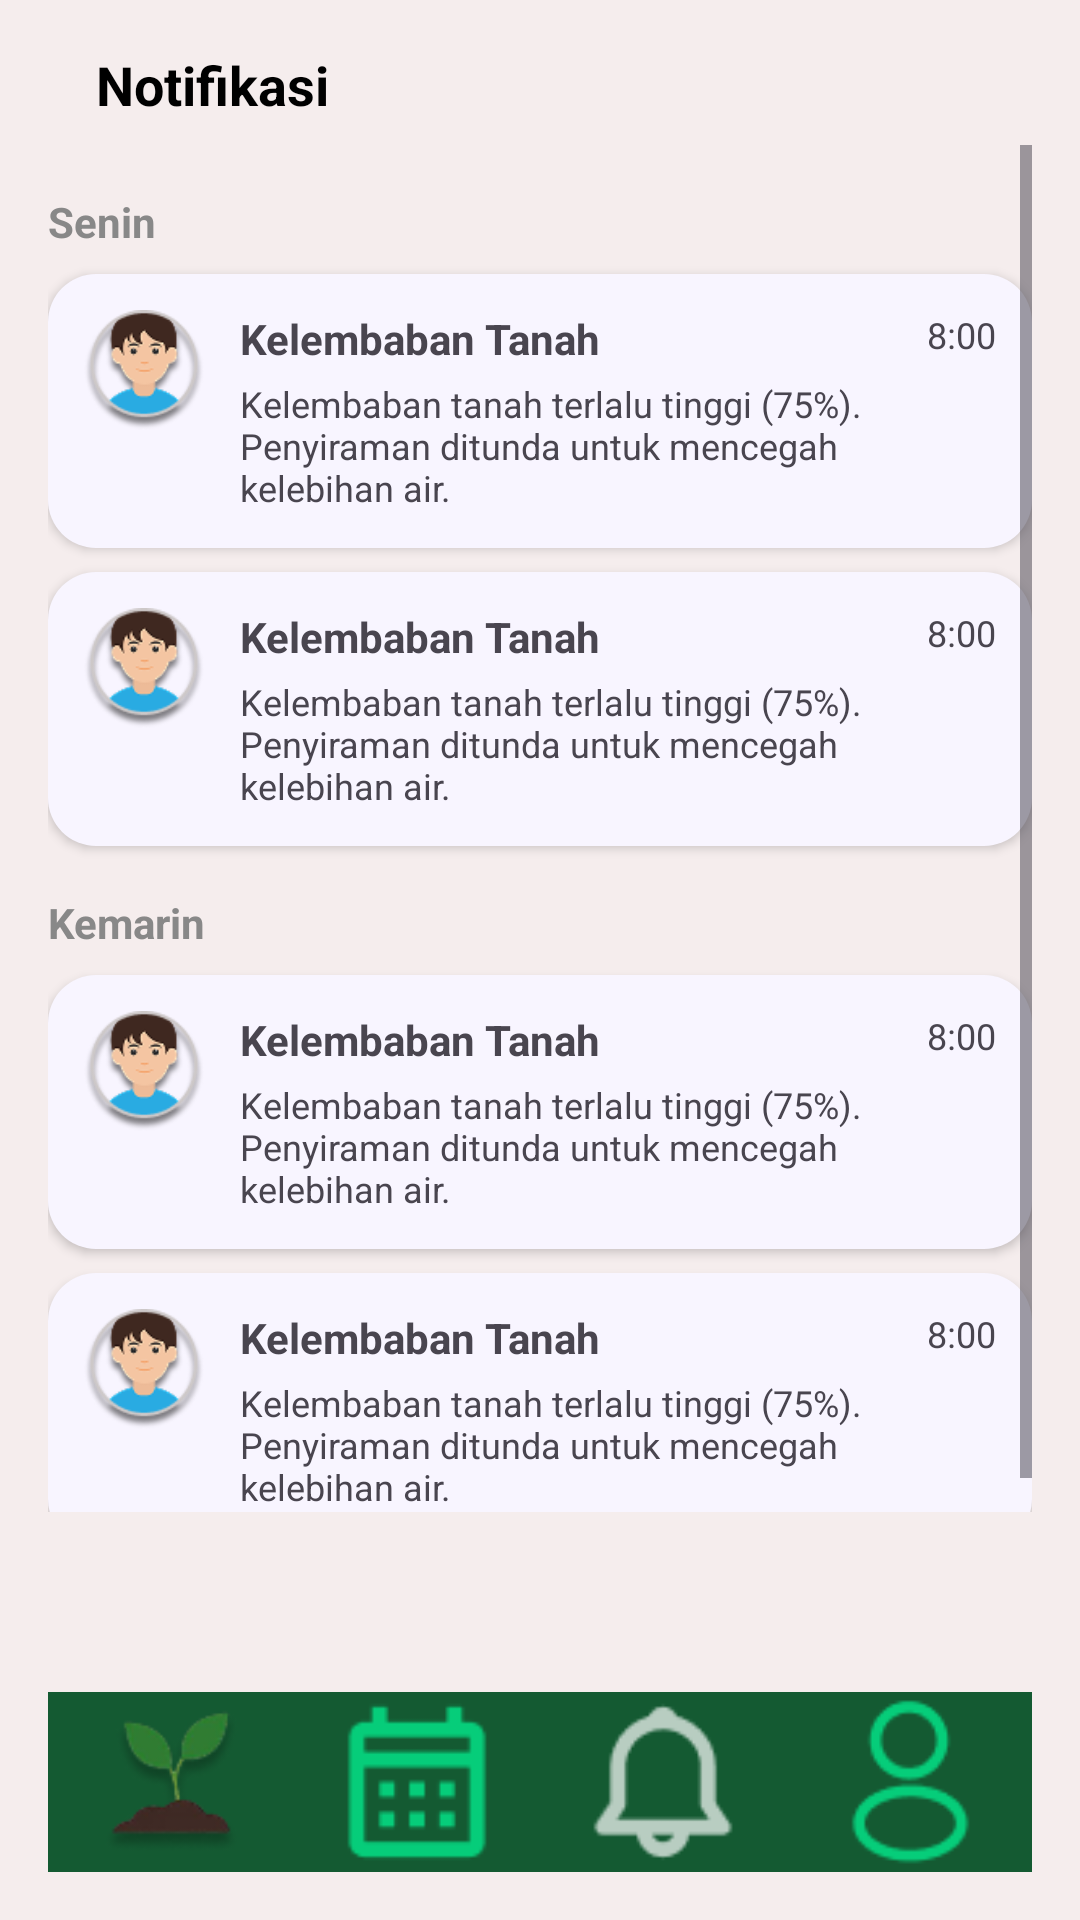

Where to tap for icons on this 1080 x 1920 app screen, as (x=x, y=y):
Jadwal: (x=417, y=1782)
Notifikasi: (x=663, y=1782)
Penyiraman: (x=171, y=1782)
Profil: (x=909, y=1782)
